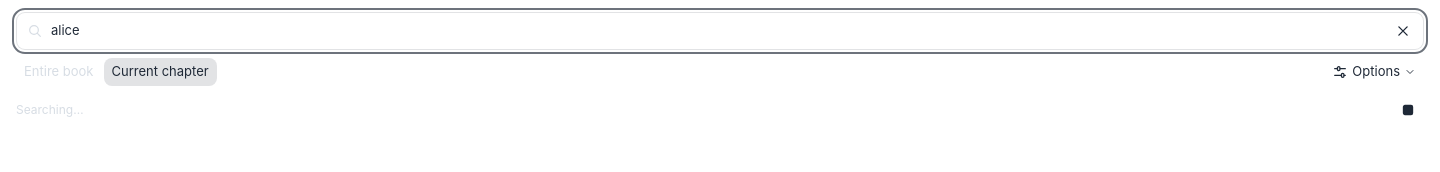
Scenario: SearchBar › shows cancellation as a stopped search
Click the button named "Stop search": (1408, 110) [1392,94,1424,126]
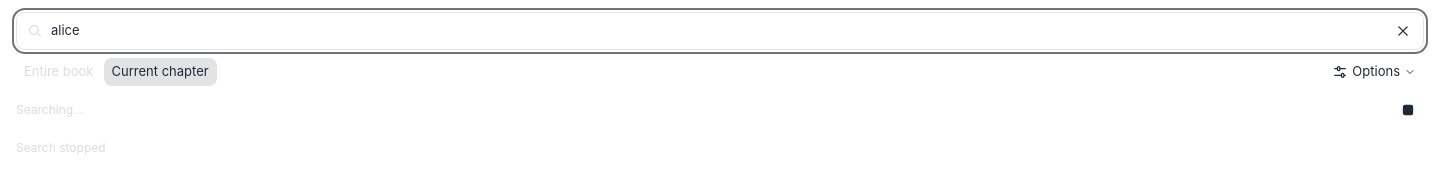
expect the text "Search stopped" is shown: met, box [16,140,106,154]
